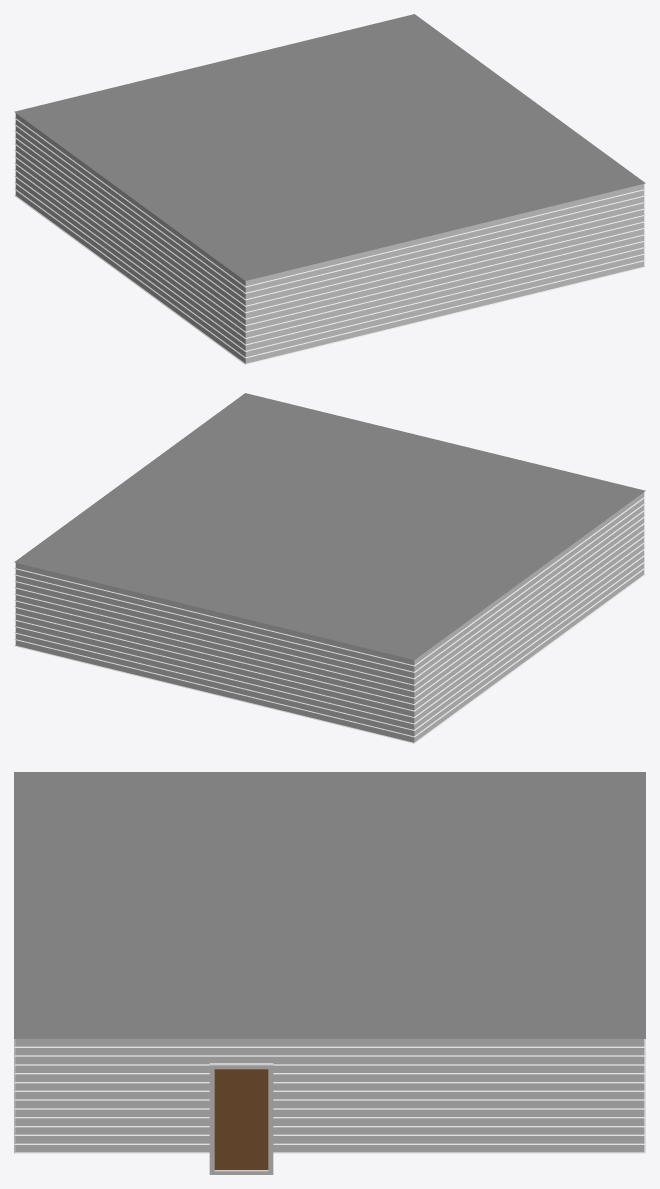
The model's file is Room.fbx.
3 renders of one model, top to bottom at view 1: azimuth 30°, elevation 25°; view 2: azimuth 150°, elevation 25°; view 3: azimuth 270°, elevation 25°, orthographic. The views are drawn at different scales.
Parts seen in each view (by area): view 1: Room; view 2: Room; view 3: Room.
Boxes of the visible parts, <box> form: Room: <box>14,14,645,364</box>; Room: <box>14,393,645,743</box>; Room: <box>14,772,645,1174</box>.
Size of the model in its own units: 100623 by 23430 by 100000.
